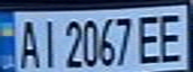0: (81, 15, 100, 69)
2: (60, 16, 84, 70)
6: (100, 15, 118, 67)
7: (115, 14, 136, 66)
A: (12, 16, 42, 70)
E: (154, 10, 190, 64), (133, 11, 166, 65)
I: (36, 15, 60, 69)
